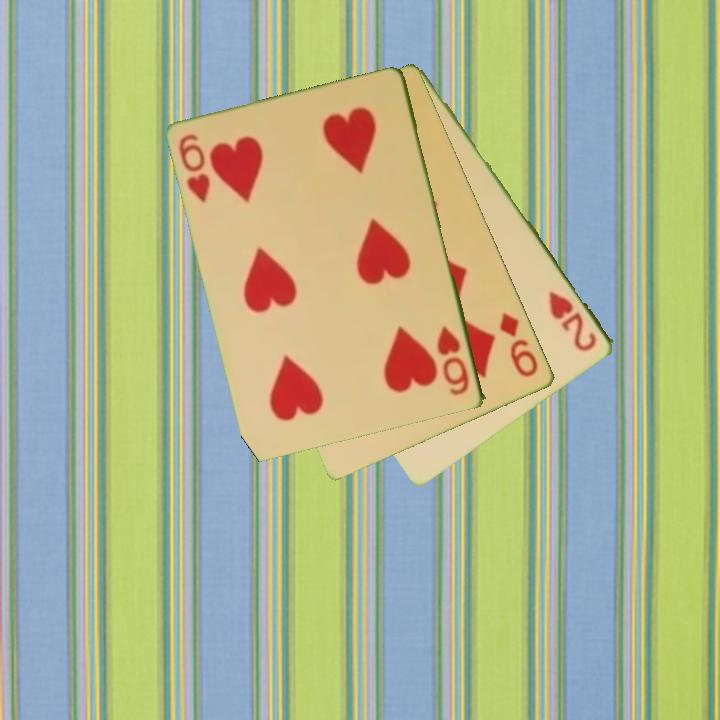2h: (545, 287, 601, 355)
6h: (434, 323, 473, 399), (175, 131, 214, 206)
9d: (496, 309, 542, 381)
